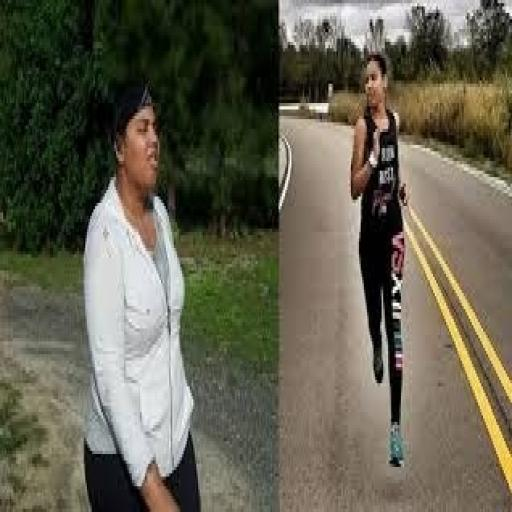running: (80, 77, 203, 509), (348, 48, 412, 474)
